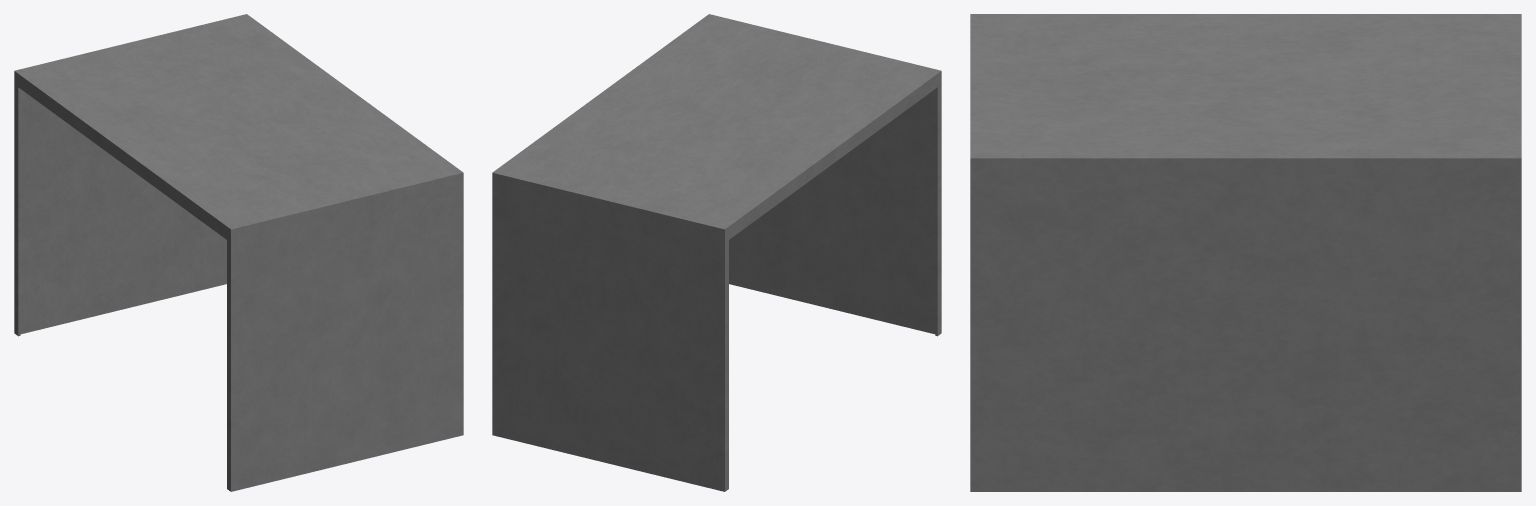
File: empty.fbx
3 views of the same model, side by side, from view 1: azimuth 30°, elevation 25°; view 2: azimuth 150°, elevation 25°; view 3: azimuth 270°, elevation 25° (orthographic). The views are drawn at different scales.
Visible parts, largest first — view 1: Cube.013; view 2: Cube.013; view 3: Cube.013.
Part boxes in pixels (x1=…): Cube.013: x1=14, y1=14, x2=463, y2=491; Cube.013: x1=492, y1=14, x2=941, y2=491; Cube.013: x1=970, y1=14, x2=1521, y2=491.
Size of the model in its own units: 332 by 358 by 536.
